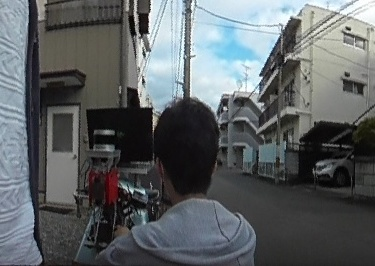person: (119, 96, 255, 266)
